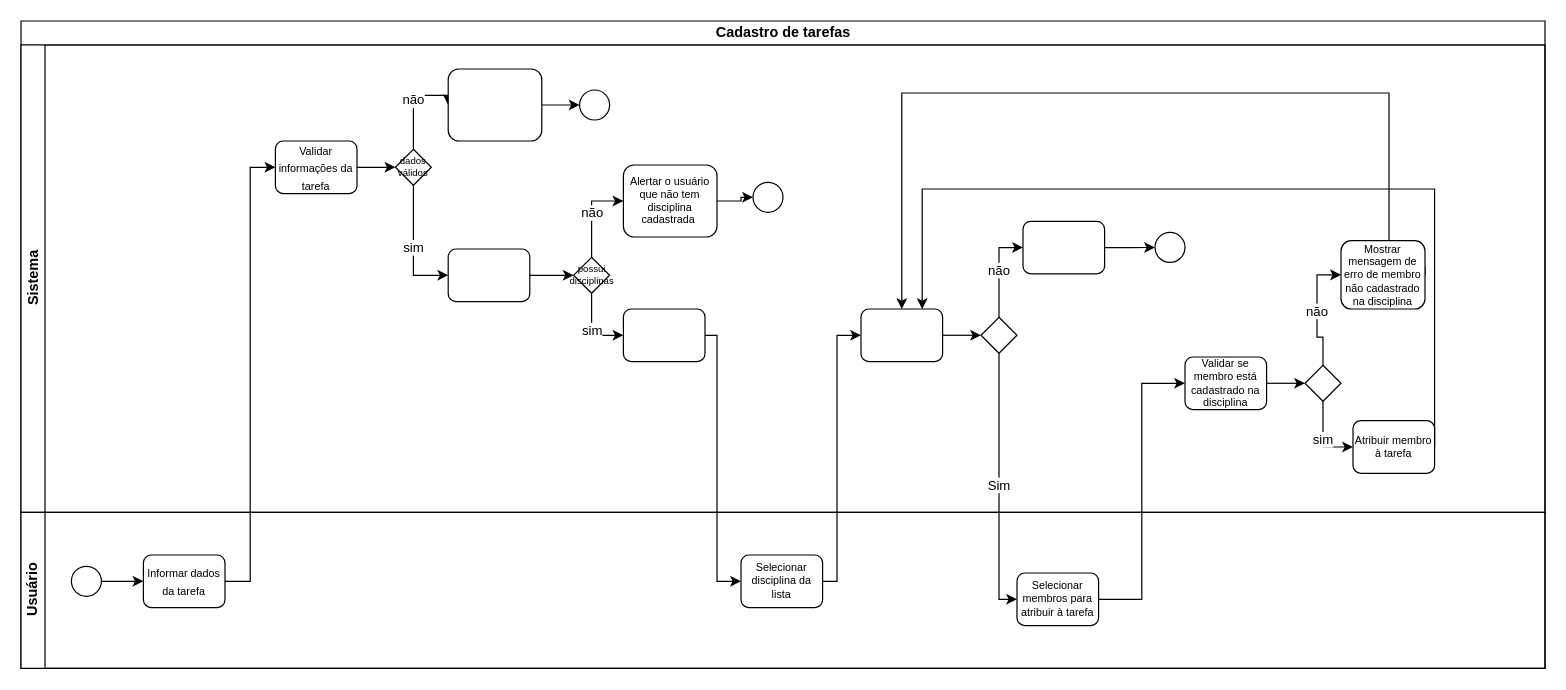
This 1566x690 diagram has some shape labels left out. The centre of each missing label's shape, as x and y in pixels:
"atribuir" belongs at (x=998, y=334).
"Envia mensagem de erro de invalidação de dados" belongs at (x=494, y=104).
"está cadastrado" belongs at (x=1322, y=382).
"Informar usuário sobre sucesso do cadastro" belongs at (x=1063, y=247).
"Mostrar lista de disciplinas" belongs at (x=663, y=335).
"Mostrar tela de atribuição de membros" belongs at (x=901, y=335).
"Verificar disciplinas cadastradas" belongs at (x=488, y=275).
